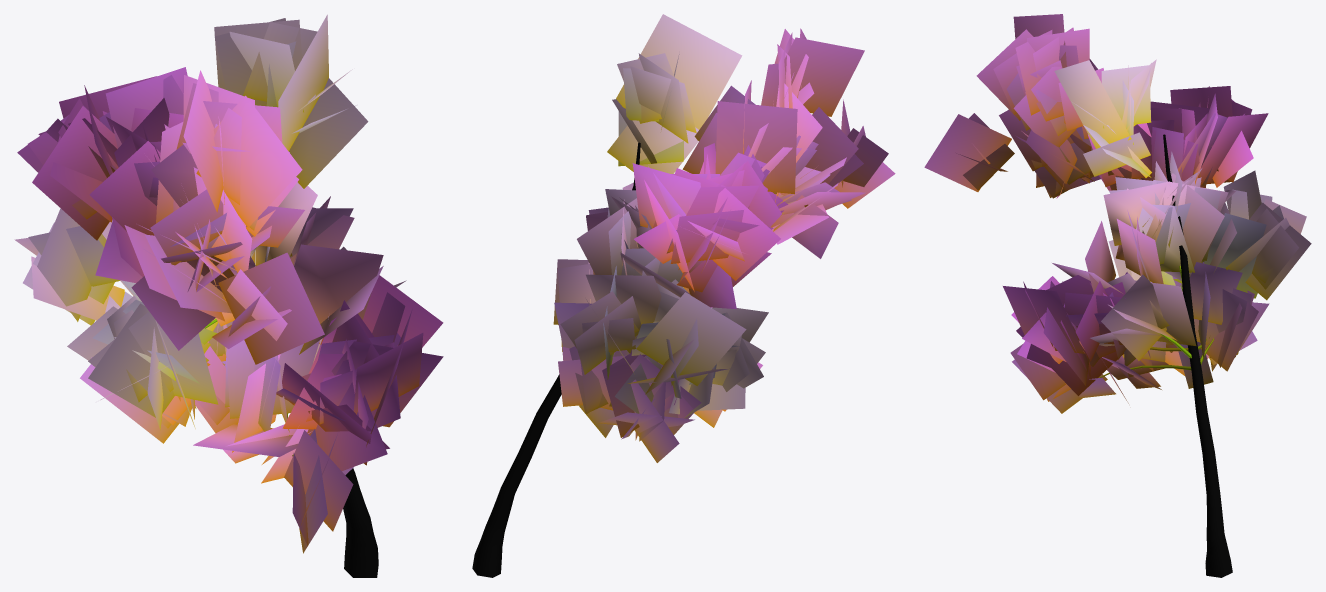
File: tree_pine_a_lod1.glb
3 renders of one model, left to right at view 1: azimuth 30°, elevation 25°; view 2: azimuth 150°, elevation 25°; view 3: azimuth 270°, elevation 25°, orthographic. The views are drawn at different scales.
Visible parts, largest first — view 1: tree_pine_a_lod1; view 2: tree_pine_a_lod1; view 3: tree_pine_a_lod1.
Part boxes in pixels (<box>): tree_pine_a_lod1: <box>14,14,443,577</box>; tree_pine_a_lod1: <box>472,14,895,577</box>; tree_pine_a_lod1: <box>924,14,1311,577</box>.
Bounding box in the file's own units: 7.17 × 12.32 × 9.21.
